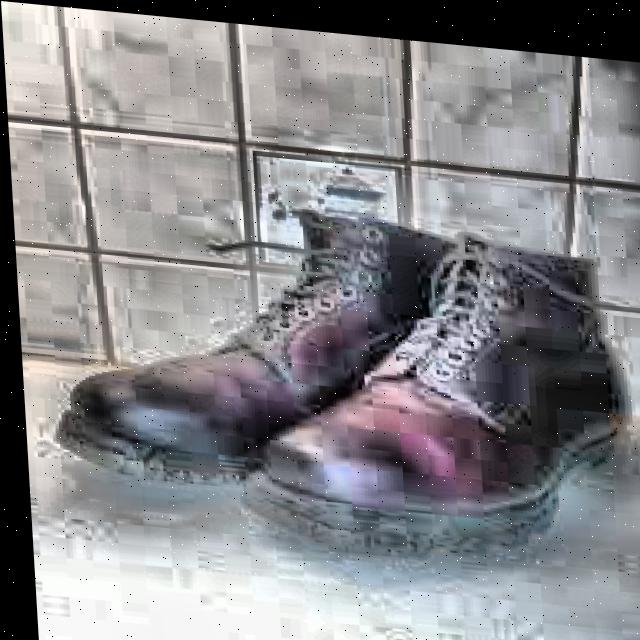shoes: (17, 153, 640, 610)
